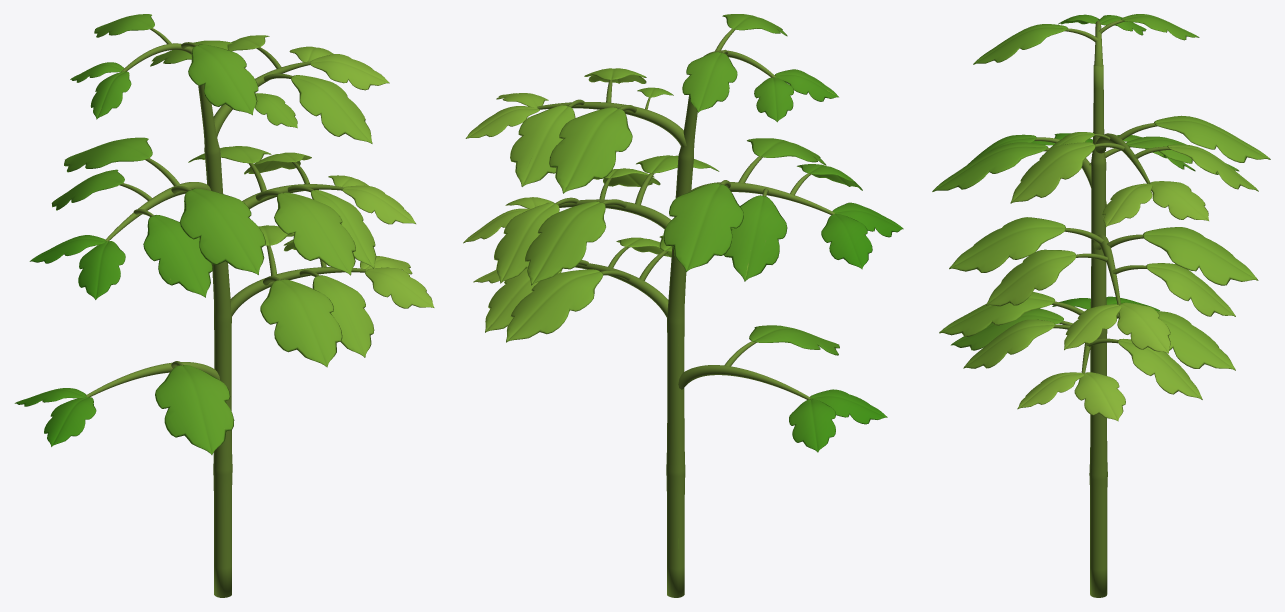
File: LV3_Tomato.obj
3 views of the same model, side by side, from view 1: azimuth 30°, elevation 25°; view 2: azimuth 150°, elevation 25°; view 3: azimuth 270°, elevation 25° (orthographic). The views are drawn at different scales.
Parts seen in each view (by area): view 1: LV3_Tomato; view 2: LV3_Tomato; view 3: LV3_Tomato.
Boxes of the visible parts, x1,y1,x2,y2 form: LV3_Tomato: [14, 14, 434, 597]; LV3_Tomato: [463, 14, 903, 597]; LV3_Tomato: [932, 14, 1270, 597].
Bounding box in the file's own units: 5.97 × 8.42 × 4.71.
Materials: 2 (2 with a texture image).
